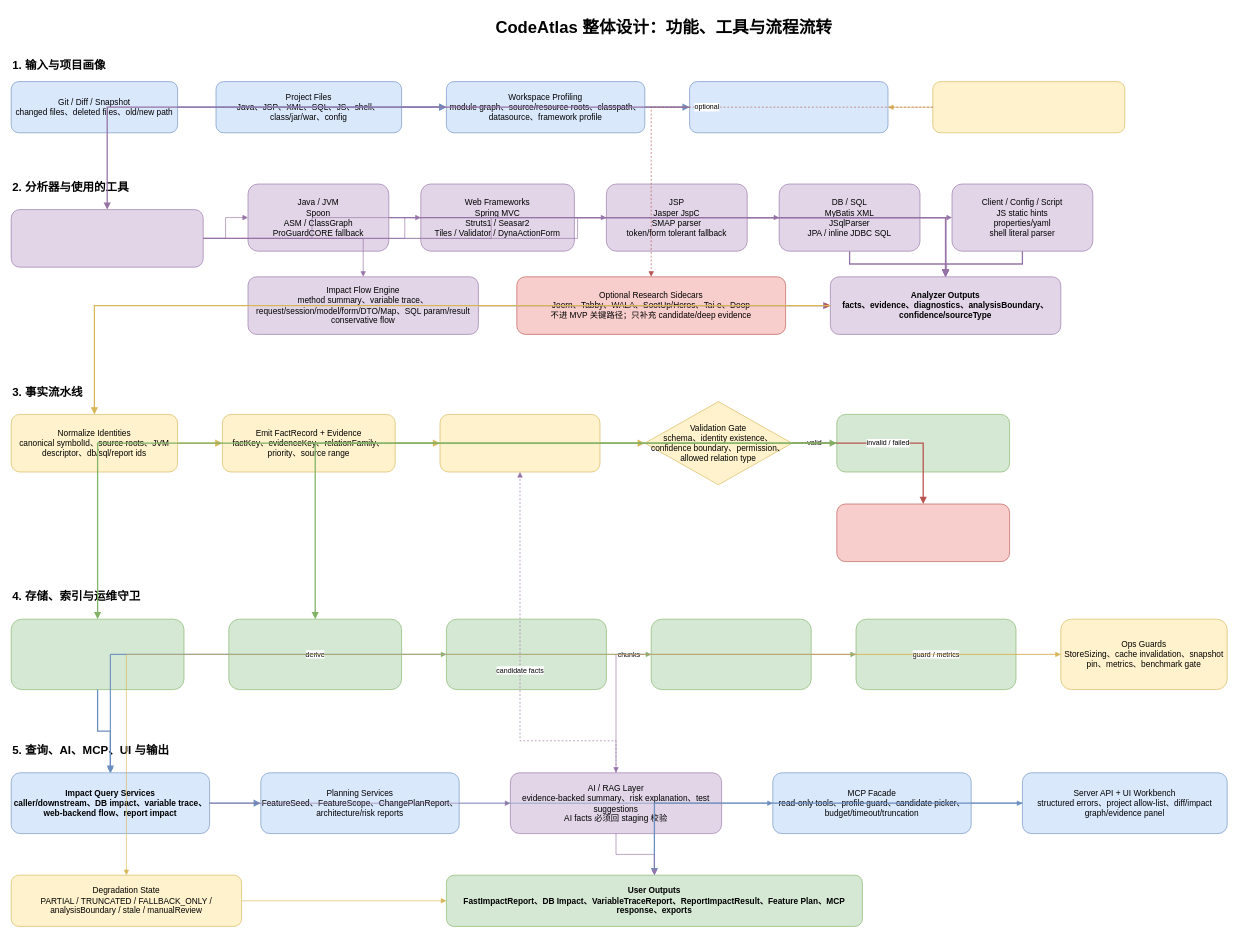
This 1238x938 diagram has some shape labels left out. The box of each missing label's shape, as (x1, y1, x2, y2) in pixels:
Active Fact Store Neo4j：生产/大规模推荐 InMemory：dev、CI、小项目 active/tombstone 默认过滤: (11, 619, 184, 690)
Analyzer Fan-out 按 scope 并发执行，失败隔离；动态/缺失上下文进入降级或 candidate: (11, 209, 203, 267)
Atomic Commit upsert + tombstone 同事务 owner tuple 限定 relationFamily/scope: (836, 414, 1010, 472)
Evidence Store snippets、SMAP fields、SQL variants、diagnostics、stale marker: (228, 619, 402, 690)
JVM Graph Cache primitive adjacency、snapshot pinned、cache miss fallback: (651, 619, 811, 690)
Policy + Benchmark project allow-list、MCP profile、budget limits、SLA profile: (932, 81, 1125, 133)
Rejected / Rollback 旧 active facts 保留 diagnostics / pending / manual review: (836, 503, 1010, 562)
Scope / Worker Plan file/module/JAR scope、incremental scope、timeout/retry/cancel: (689, 81, 888, 133)
Staging Area Analyzer 只写 staging 不进入 current active queries: (439, 414, 600, 472)
Symbol Index canonical lookup、alias lookup、changed symbol resolver: (446, 619, 606, 690)
Vector / RAG Index derived chunks 回答前必须回查 active facts: (855, 619, 1016, 690)
